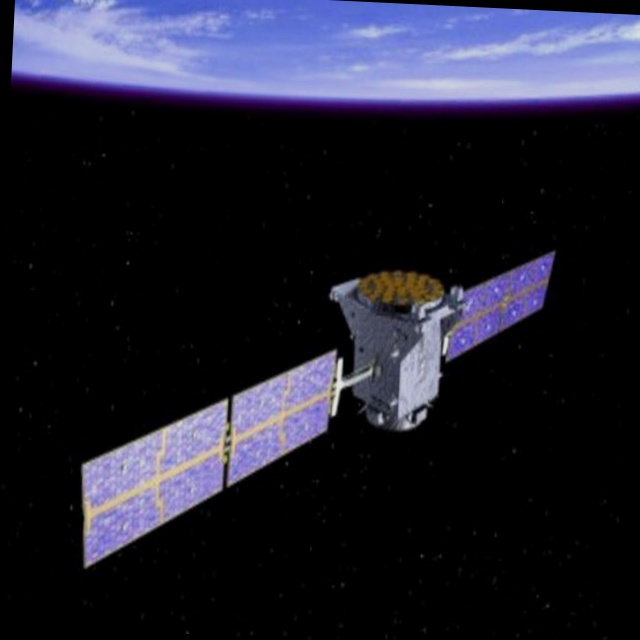medium_debris: (69, 181, 556, 601)
